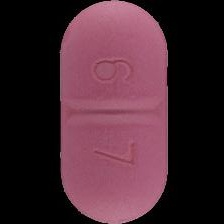61919-135: (0, 0, 224, 224)
